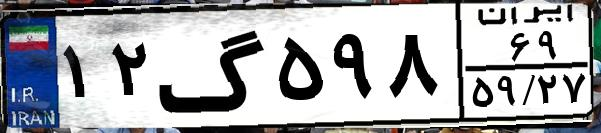1: (57, 26, 110, 100)
2: (110, 28, 156, 98), (535, 70, 560, 125)
5: (270, 28, 330, 110), (470, 70, 495, 125)
6: (508, 27, 537, 80)
7: (560, 70, 590, 125)
8: (385, 28, 445, 110)
9: (330, 28, 385, 110), (537, 27, 568, 80), (495, 70, 520, 125)
گ: (156, 12, 270, 120)
